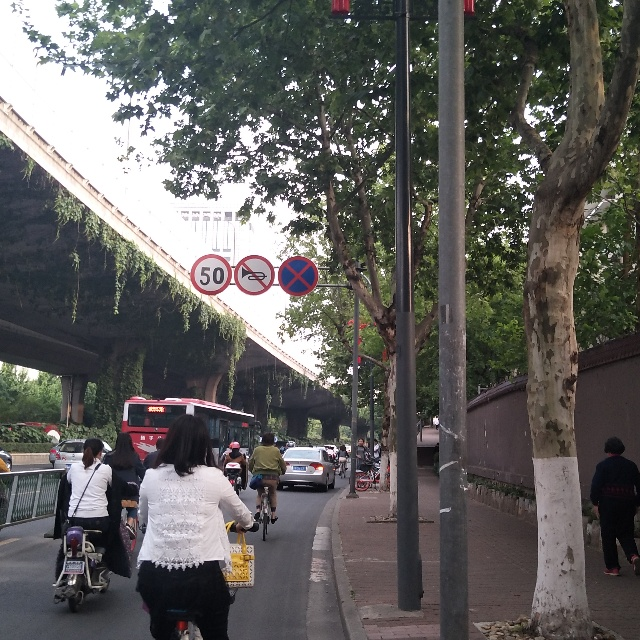nohonk: (238, 261, 273, 292)
stop: (284, 258, 319, 293)
